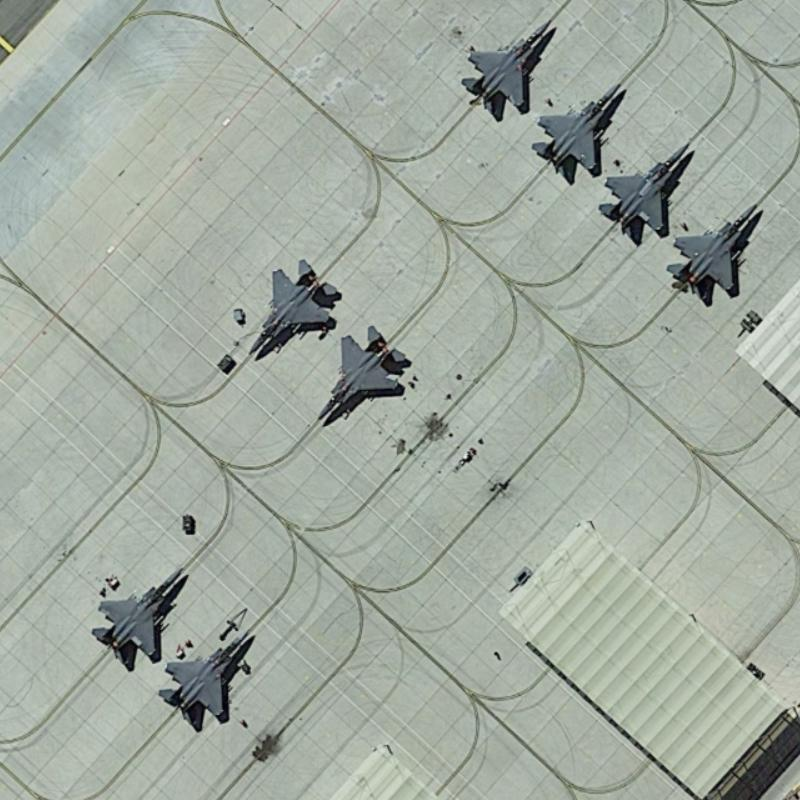A13: (83, 560, 193, 669), (588, 136, 697, 245), (453, 13, 559, 124), (307, 318, 413, 428), (659, 199, 764, 308), (242, 248, 340, 362), (528, 76, 628, 186), (155, 622, 252, 732)
